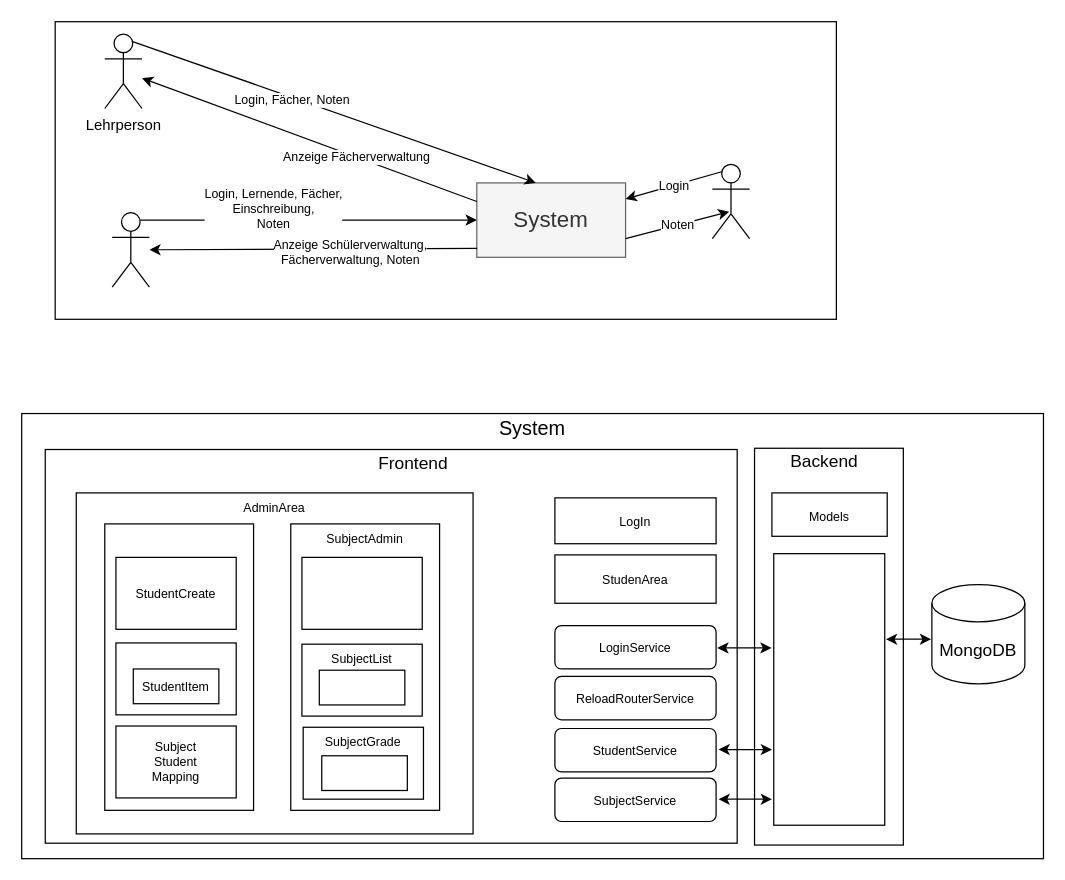
Image size: 1065x880. Some labels were removed from this diagram. Here are the shapes that lost their labels. From the top down, the box of each, then its label:
(711, 163, 750, 239): Lernende/r
(111, 211, 149, 287): Schuladministration
(301, 556, 422, 629): SubjectCreate
(115, 642, 236, 715): StudentList
(104, 523, 254, 810): StudentAdmin
(318, 669, 405, 705): SubjectItem
(773, 552, 885, 825): API
(321, 755, 407, 790): GradeForm
